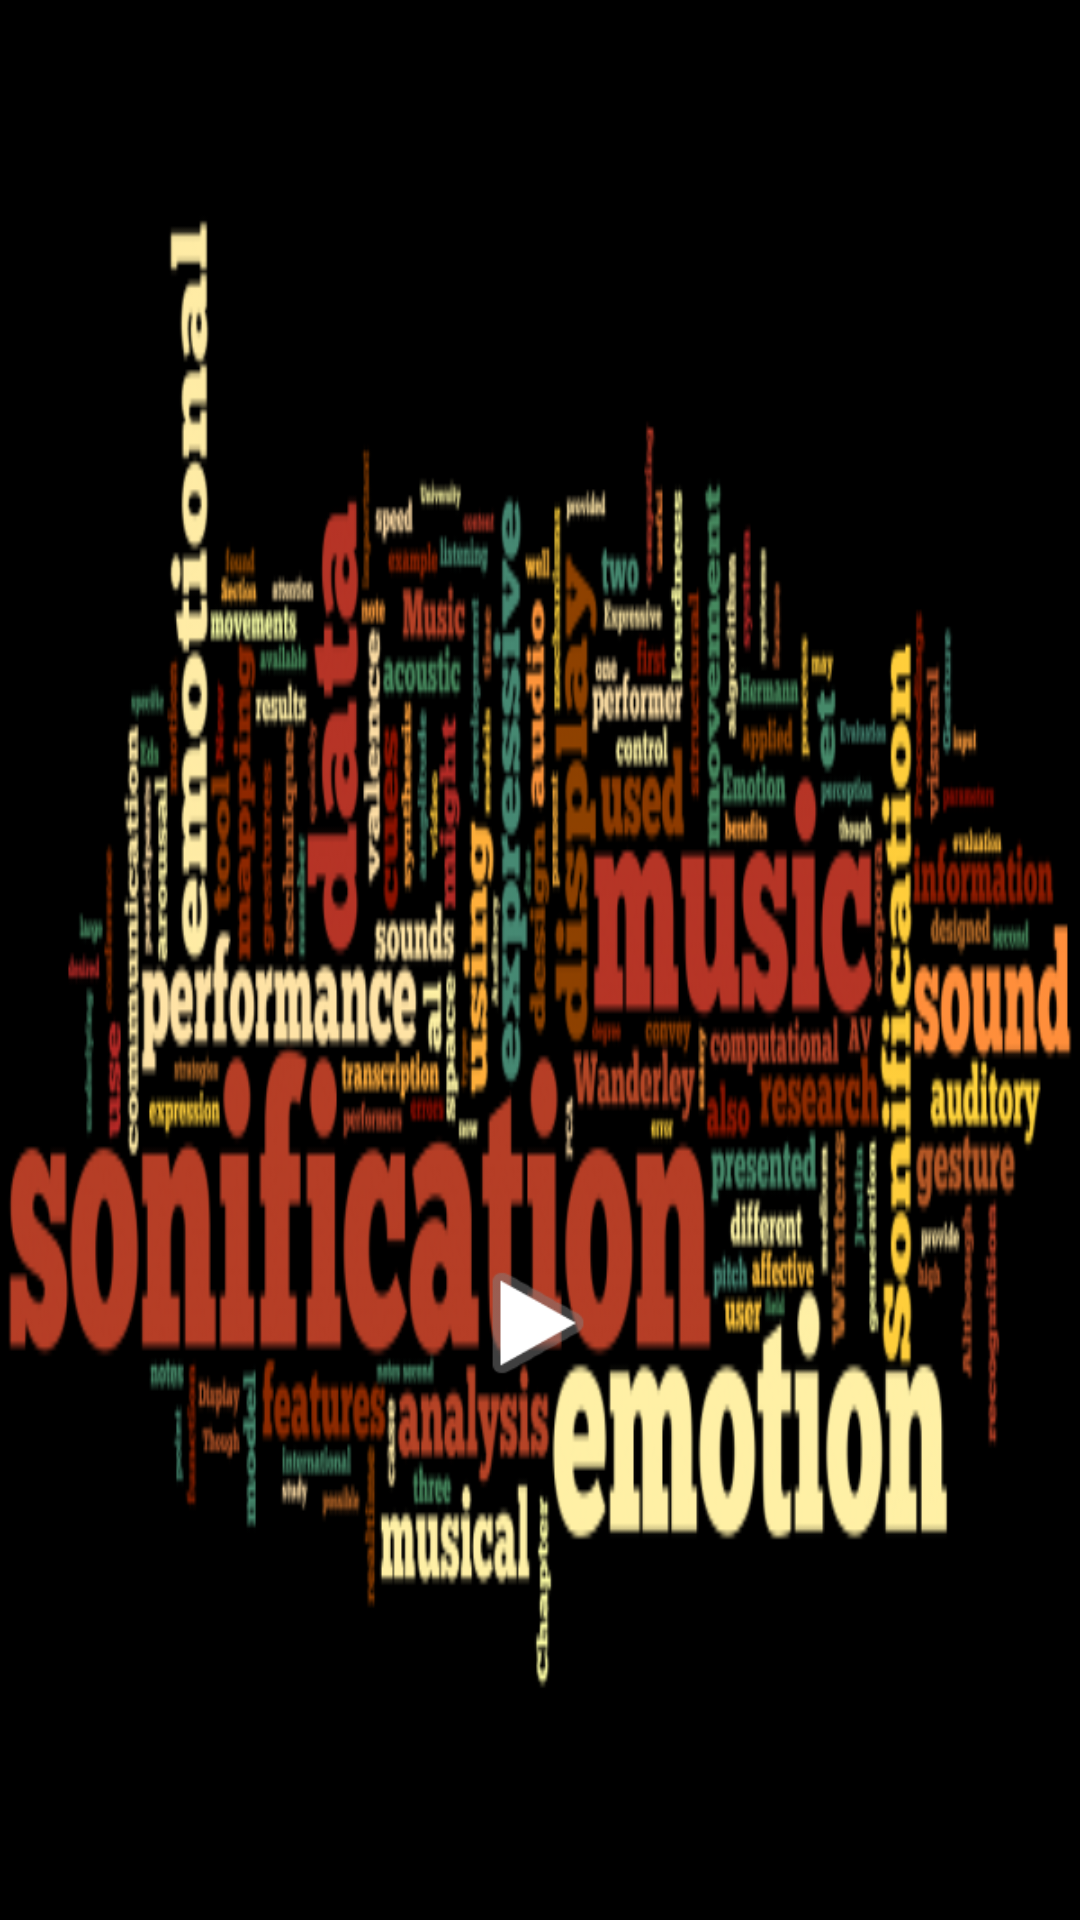

Where to tap for icons on this 1080 x 1920 app screen, as (x=x, y=y):
play: (x=538, y=1323)
